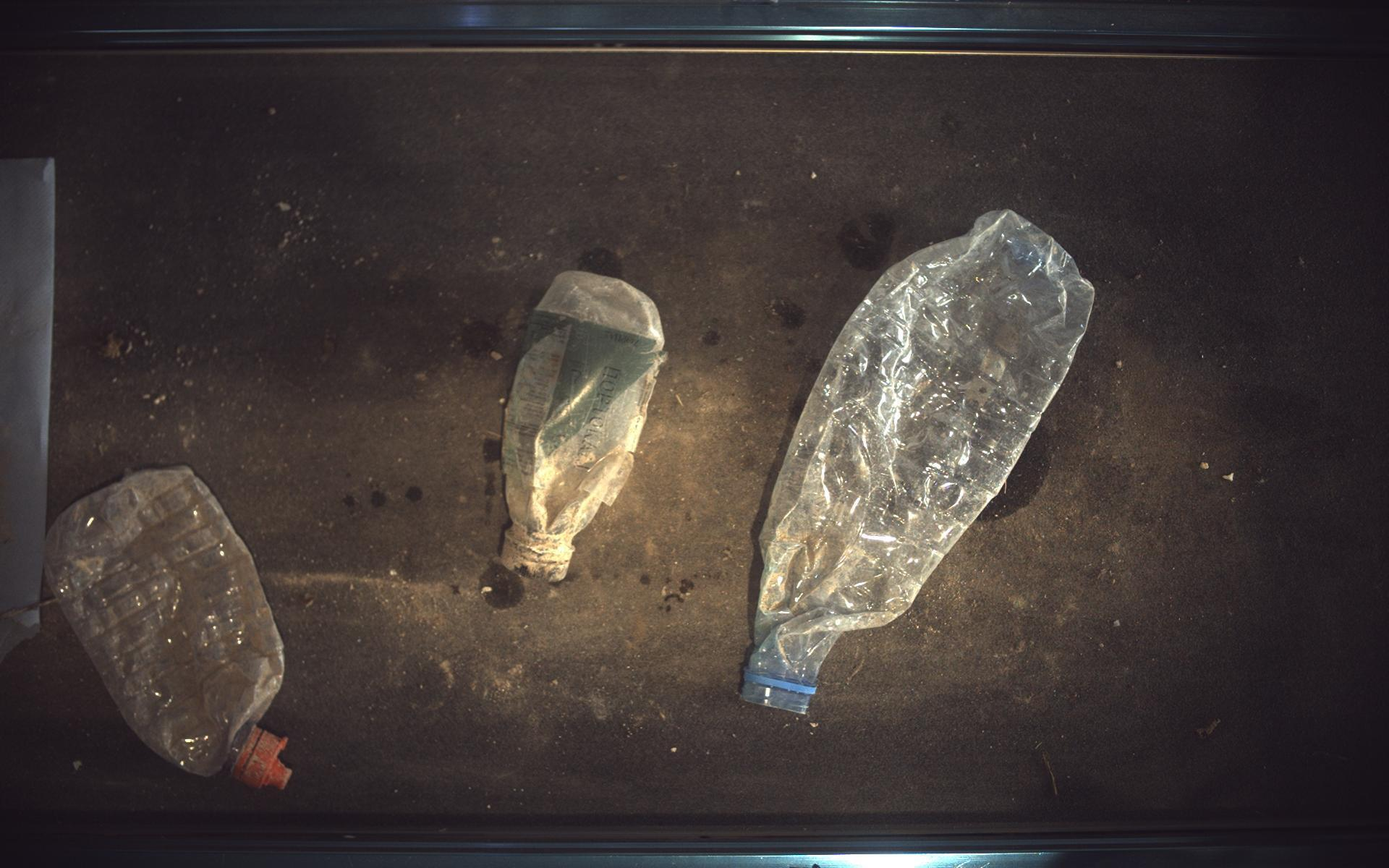general_w: (742, 209, 1096, 715), (501, 271, 667, 582)
